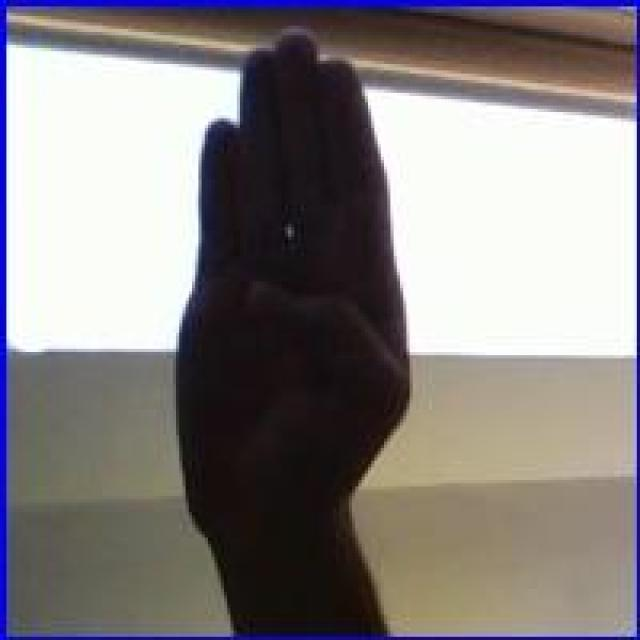B: (175, 26, 418, 570)
